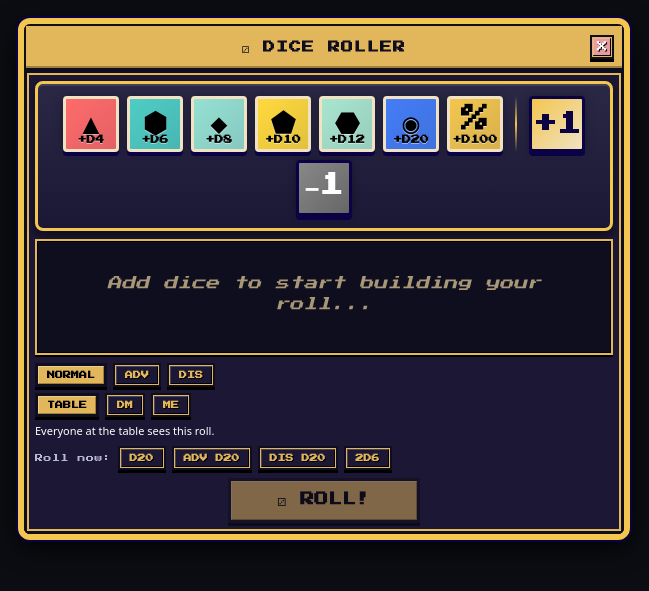
DiceRoller › Rolling Dice › should disable Roll button during animation
The image size is (649, 591).
Click the button named "add d20".
click(411, 124)  # box [383,96,439,152]
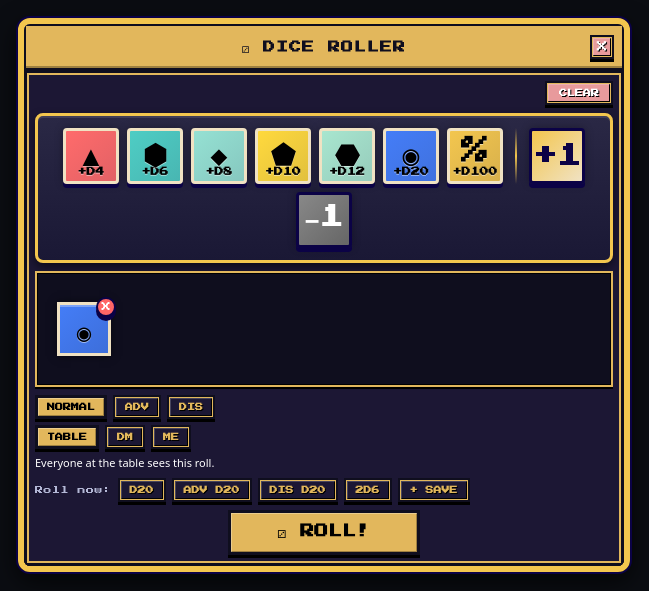
Click the button with aria-label "roll dice".
click(324, 533)  # box [228,510,420,555]
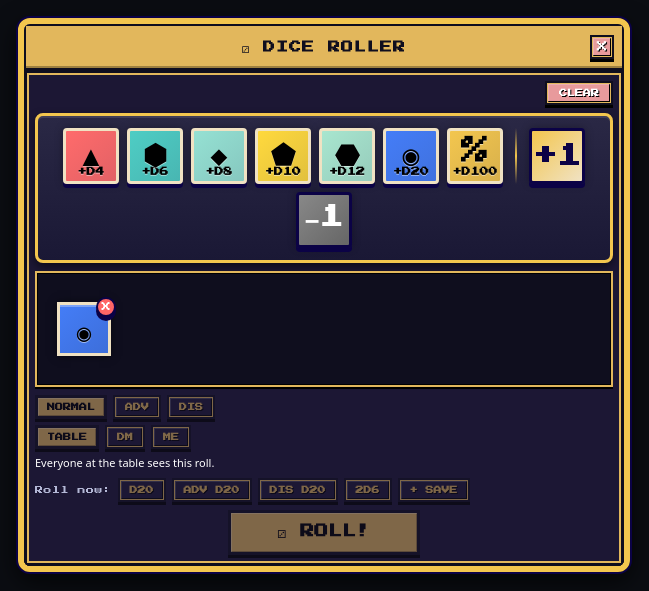
Result: the button with aria-label "roll dice" is disabled at [228,510,420,555]
